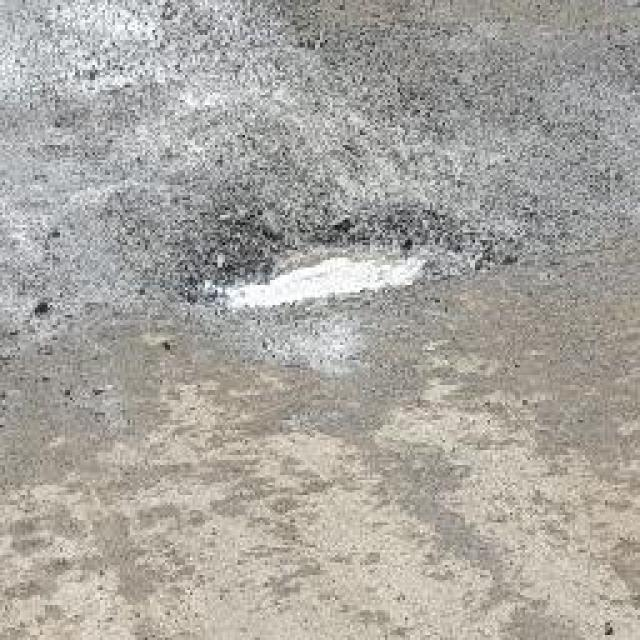stagnation: (236, 235, 426, 323)
